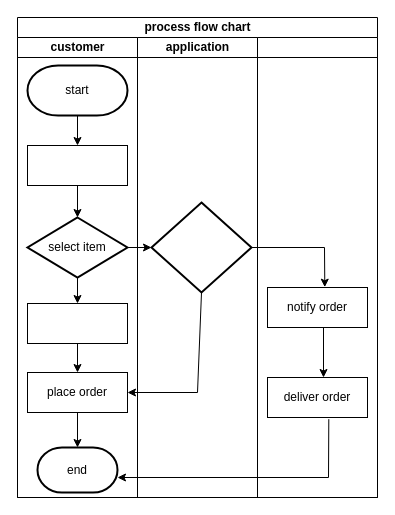
Image size: 395x515. Some labels were removed from this diagram. The shapes that lost their labels are listed below. From the top down, each one's box as (x1, y1, x2, y2) in pixels, then its label:
(26, 144, 128, 186): browse restaurants
(150, 201, 252, 293): payment successful
(256, 36, 378, 498): restaurant
(26, 302, 128, 344): add to cart
